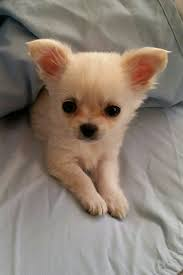chihuahua: (22, 37, 168, 221)
